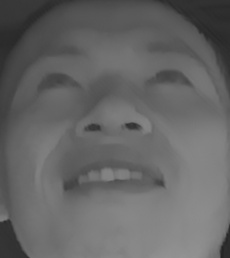eye: (140, 62, 198, 95), (31, 70, 86, 99)
mouth: (52, 150, 170, 203)
